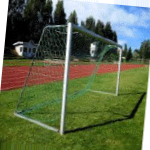goals: (15, 20, 123, 136)
